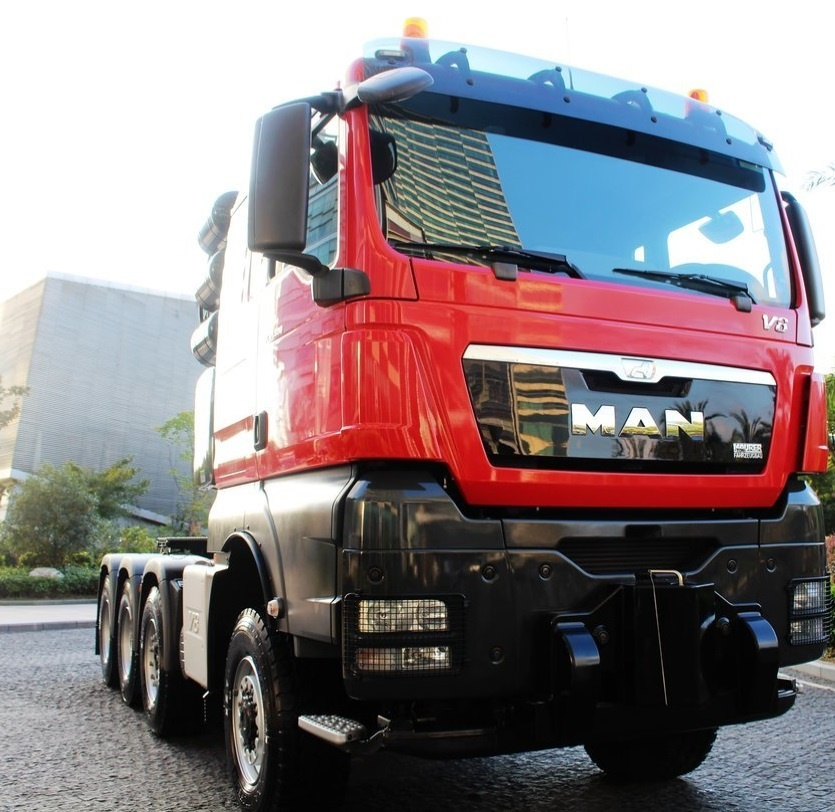heavy truck: (85, 33, 834, 802)
